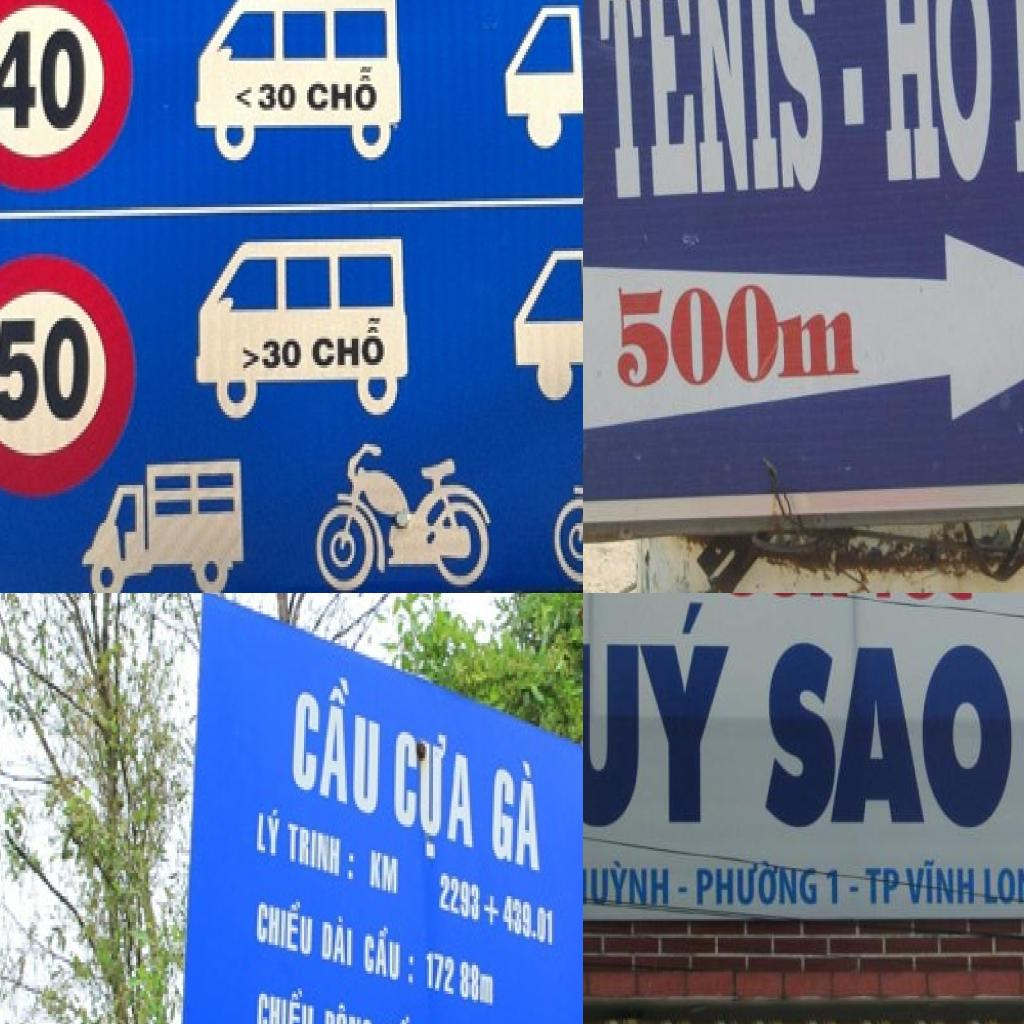text: (749, 635, 1024, 835), (593, 0, 831, 209), (583, 596, 735, 828), (871, 0, 1001, 187), (290, 655, 386, 827), (392, 712, 480, 882), (0, 312, 93, 429), (0, 22, 89, 139), (488, 744, 546, 882), (691, 858, 822, 910), (286, 816, 359, 890), (422, 945, 498, 1014), (311, 309, 389, 374), (253, 888, 320, 962), (300, 58, 380, 119), (583, 856, 672, 910), (361, 913, 419, 994), (437, 868, 503, 936), (902, 858, 978, 907), (501, 890, 558, 954), (254, 973, 318, 1024), (318, 910, 358, 974), (258, 333, 307, 377), (980, 862, 1024, 907), (368, 844, 402, 902), (862, 866, 904, 909), (255, 801, 283, 865), (322, 993, 377, 1024), (256, 78, 298, 116), (823, 866, 842, 909)
